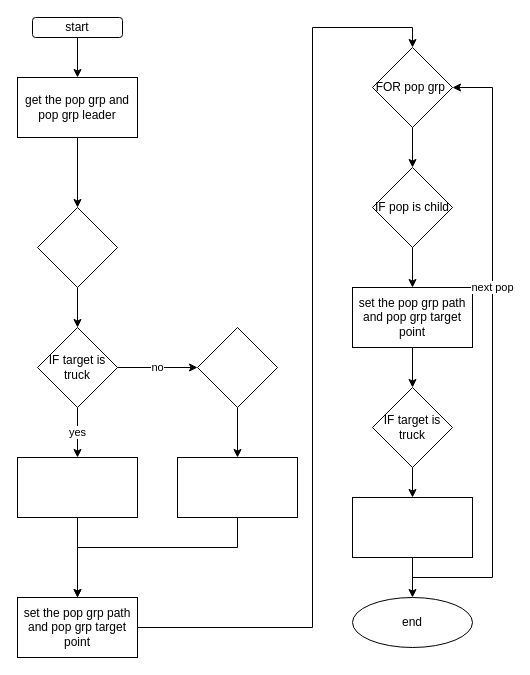
Some shapes in this 530 by 675 pixel diagram are drawn without their labels. The centre of each missing label's shape, as x and y in pixels:
"ELSE IF target is card" goes at point 237,367.
"get the card position" goes at point 237,487.
"get the ppl tower point and set the target truck id" goes at point 77,487.
"IF target agent not undefined" goes at point 77,247.
"set the target truck id" goes at point 412,527.
